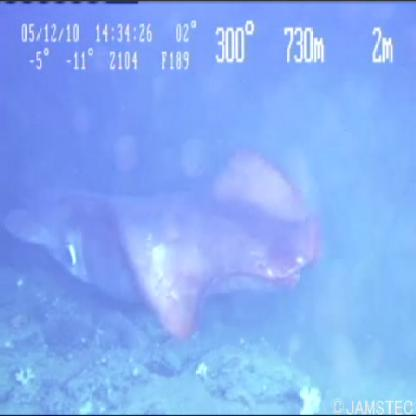Bio: (1, 142, 327, 348)
